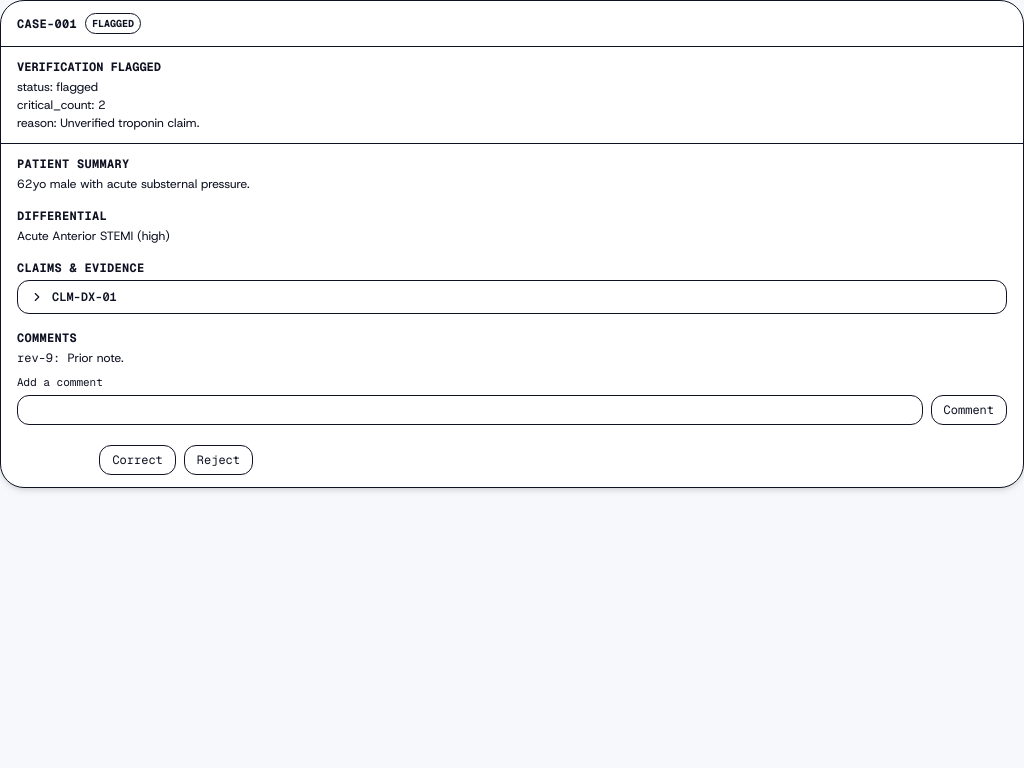
Scenario: ReportView › expands a claim to reveal its evidence text
The width and height of the screenshot is (1024, 768).
Click the button "CLM-DX-01".
click(84, 297)  # box [18, 281, 1006, 313]
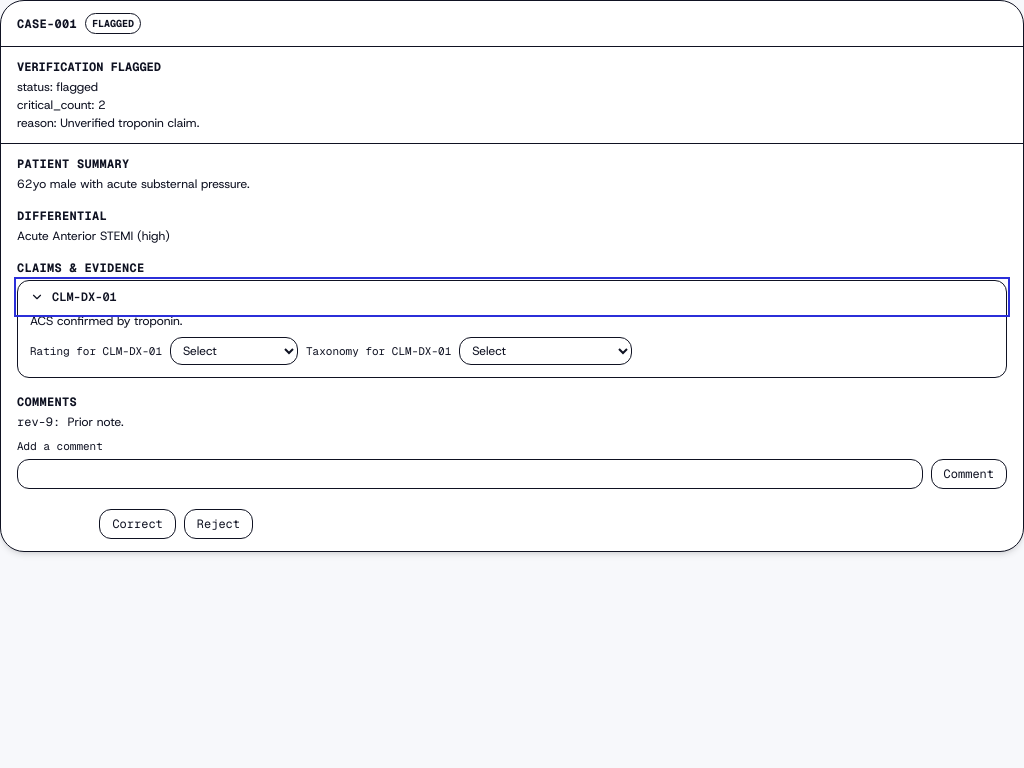
Now the button "CLM-DX-01" is expanded, box [18, 281, 1006, 313]
Now the text "ACS confirmed by troponin." is shown, box [30, 313, 182, 329]
